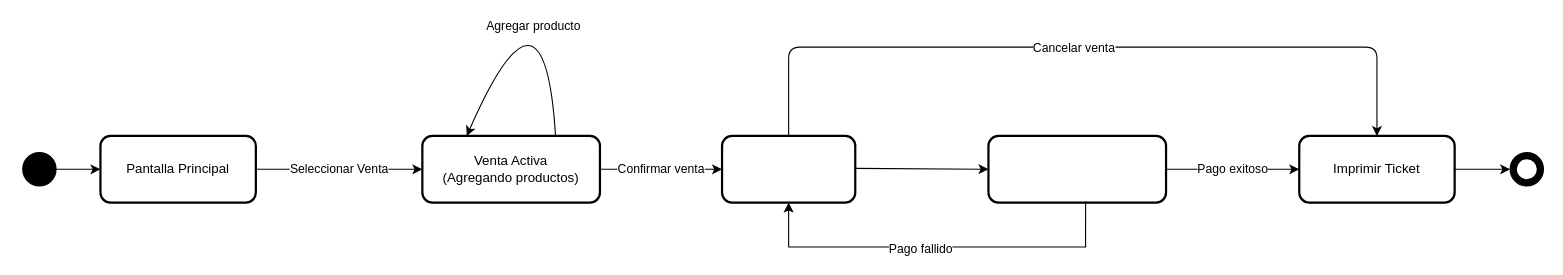
The diagram is 1563 pixels wide and 275 high, and some of its shapes have lost their labels. The shapes that lost their labels are listed below. From the top down, each one's centre as x and y in pixels, then its label:
At [788,168]: "Venta Activa (Metodo pago)".
At [1077,168]: "Procesar Pago".
